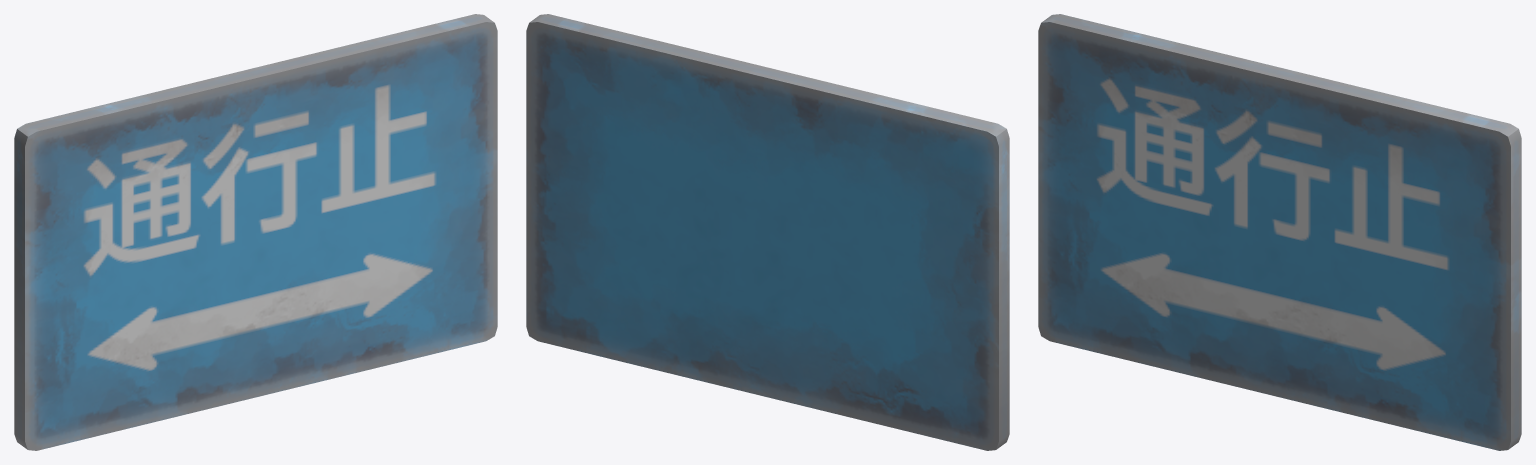
Rendered from SM_roadsign_notrafficzone.fbx.
The picture shows the model from 3 angles, left to right: view 1: azimuth 30°, elevation 25°; view 2: azimuth 150°, elevation 25°; view 3: azimuth 330°, elevation 25°; orthographic projection.
Visible parts, largest first — view 1: Box329; view 2: Box329; view 3: Box329.
Boxes of the visible parts, <box> form: Box329: <box>14,14,497,450</box>; Box329: <box>526,14,1009,450</box>; Box329: <box>1038,14,1521,450</box>.
Size of the model in its own units: 19.04 by 12.29 by 0.7587.
